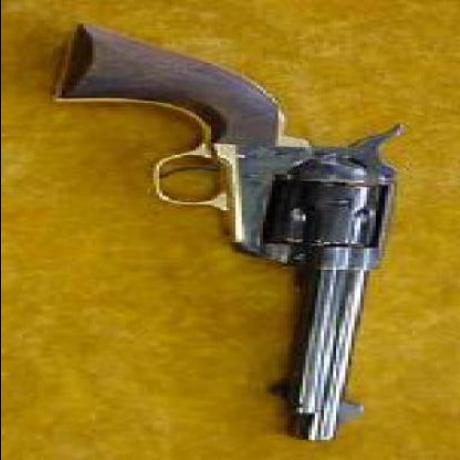weapon: (55, 21, 416, 453)
